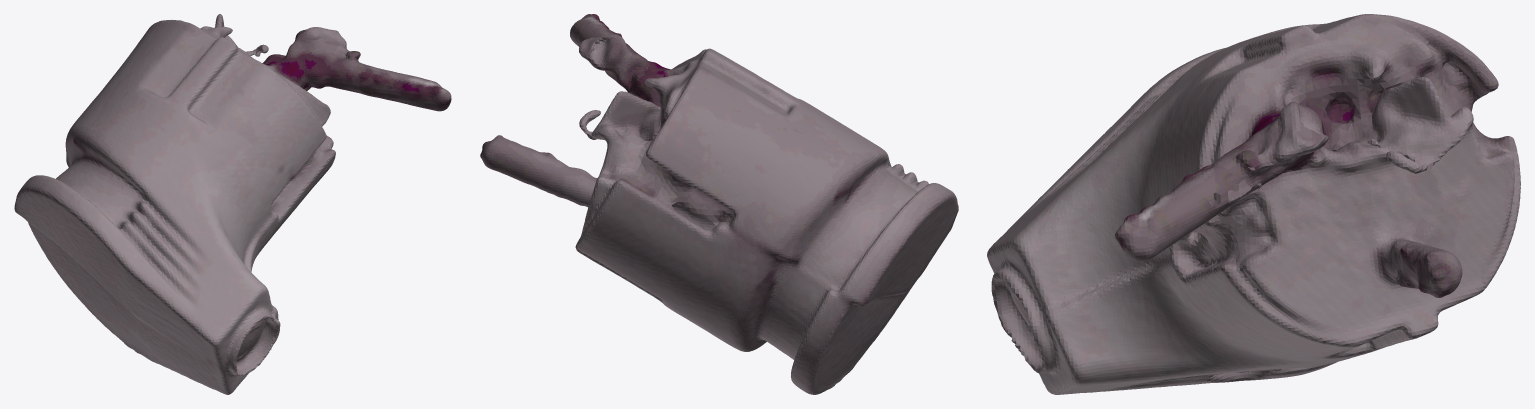
Rendered from scene_mobile.glb.
The picture shows the model from 3 angles, left to right: view 1: azimuth 30°, elevation 25°; view 2: azimuth 150°, elevation 25°; view 3: azimuth 270°, elevation 25°; orthographic projection. The views are drawn at different scales.
Bounding box in the file's own units: 67.97 × 50.83 × 57.29.
